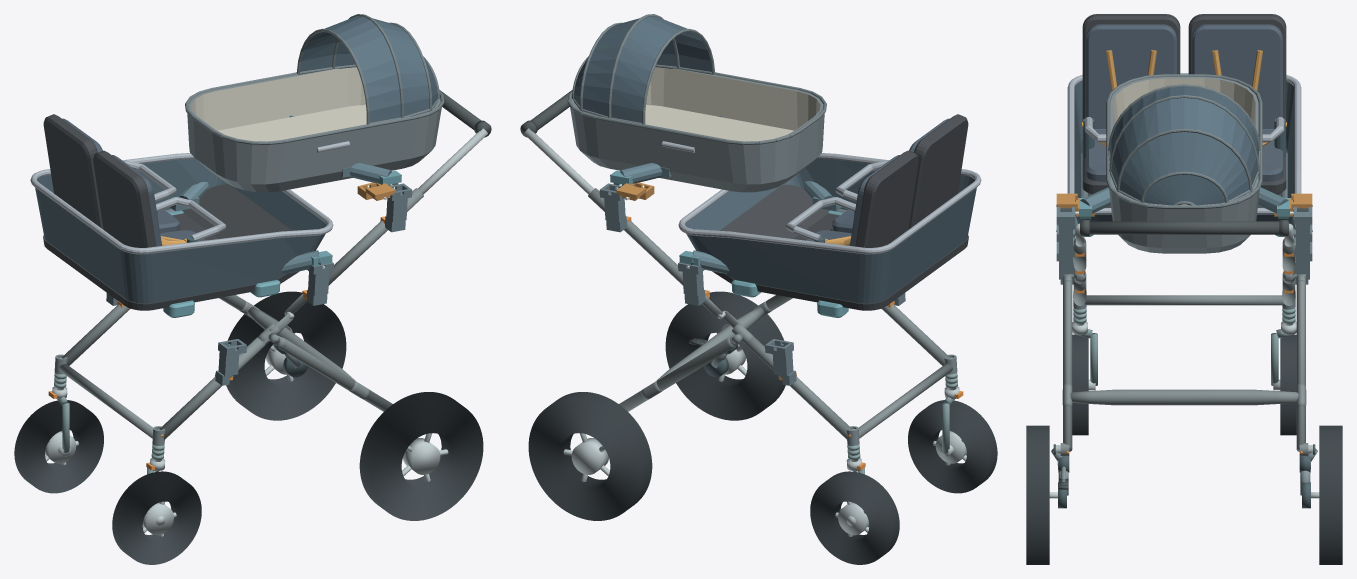
Rendered from D31_w650_state1_wheel_L.glb.
3 renders of one model, left to right at view 1: azimuth 30°, elevation 25°; view 2: azimuth 150°, elevation 25°; view 3: azimuth 270°, elevation 25°, orthographic. The views are drawn at different scales.
Visible parts, largest first — view 1: D31_Lower, D31_Upper, RL_tire.008, RR_tire.008, FL_tire.008, FR_tire.008, V46_rear_leg_-1.009, main_lower_-1.009, D31_Lower_Mount_M, front_fixed_round_tube.008, main_upper_-1.009, RL_sealed_hub.008 (+9 smaller); view 2: D31_Lower, D31_Upper, RR_tire.008, RL_tire.008, FR_tire.008, FL_tire.008, V46_rear_leg_1.009, main_lower_1.009, D31_Lower_Mount_M, front_fixed_round_tube.008, main_upper_1.009, RR_sealed_hub.008 (+9 smaller); view 3: D31_Upper, D31_Lower, V46_rearbar.009, RL_tire.008, RR_tire.008, round_handle.008, front_fixed_round_tube.008, FL_tire.008, FR_tire.008, V46_rear_leg_1.009, V46_rear_leg_-1.009, D31_Upper_Mount_H (+4 smaller).
Part boxes in pixels (x1,y1,x2,y2): D31_Lower: [30, 114, 333, 317]; D31_Upper: [185, 14, 444, 192]; RL_tire.008: [359, 392, 483, 520]; RR_tire.008: [226, 291, 346, 420]; FL_tire.008: [112, 471, 201, 564]; FR_tire.008: [14, 400, 103, 493]; V46_rear_leg_-1.009: [277, 337, 392, 411]; main_lower_-1.009: [159, 337, 268, 439]; D31_Lower_Mount_M: [170, 182, 332, 273]; front_fixed_round_tube.008: [59, 364, 153, 438]; main_upper_-1.009: [328, 188, 423, 285]; RL_sealed_hub.008: [403, 438, 440, 474]; D31_Lower: [678, 114, 981, 317]; D31_Upper: [567, 14, 826, 192]; RR_tire.008: [528, 392, 652, 520]; RL_tire.008: [665, 291, 785, 420]; FR_tire.008: [810, 471, 899, 564]; FL_tire.008: [908, 400, 997, 493]; V46_rear_leg_1.009: [619, 337, 735, 411]; main_lower_1.009: [743, 337, 852, 439]; D31_Lower_Mount_M: [679, 181, 841, 273]; front_fixed_round_tube.008: [858, 364, 952, 438]; main_upper_1.009: [588, 188, 683, 285]; RR_sealed_hub.008: [571, 438, 608, 474]; D31_Upper: [1106, 74, 1262, 253]; D31_Lower: [1067, 14, 1301, 236]; V46_rearbar.009: [1070, 389, 1298, 405]; RL_tire.008: [1026, 425, 1049, 564]; RR_tire.008: [1319, 425, 1342, 564]; round_handle.008: [1080, 221, 1288, 234]; front_fixed_round_tube.008: [1084, 295, 1284, 305]; FL_tire.008: [1072, 334, 1088, 435]; FR_tire.008: [1280, 334, 1296, 435]; V46_rear_leg_1.009: [1296, 280, 1305, 451]; V46_rear_leg_-1.009: [1063, 280, 1072, 451]; D31_Upper_Mount_H: [1075, 187, 1293, 218].
Bounding box in the file's own units: 1.2 × 1.35 × 0.8171.
